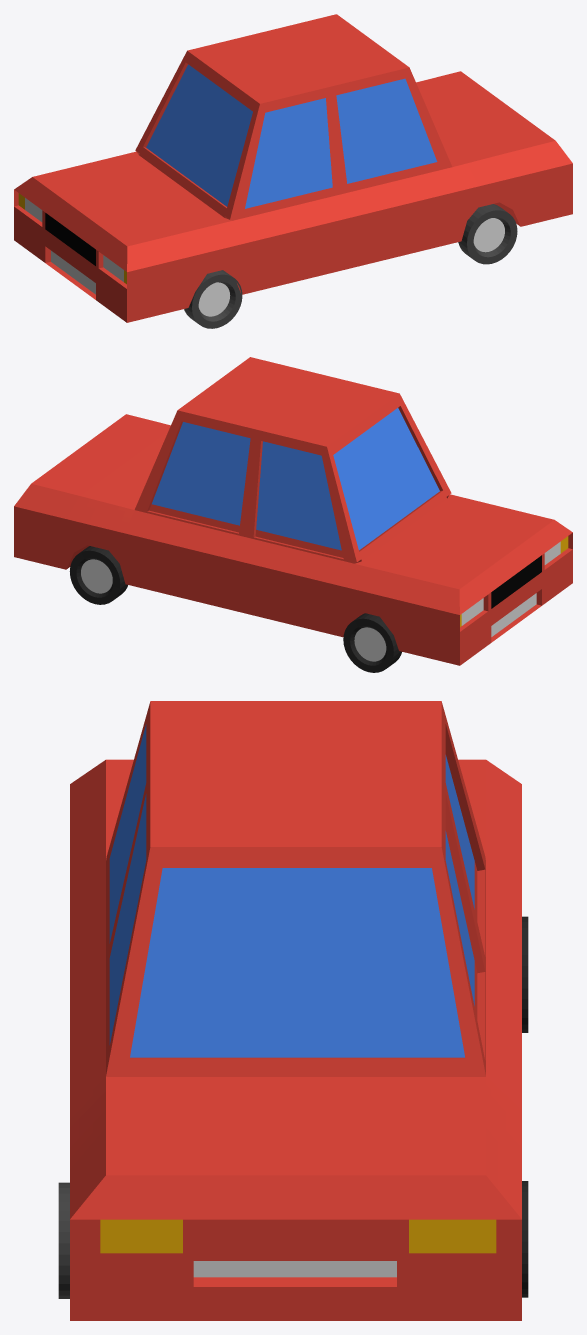
Rendered from car.gltf.
The picture shows the model from 3 angles, top to bottom: view 1: azimuth 30°, elevation 25°; view 2: azimuth 150°, elevation 25°; view 3: azimuth 270°, elevation 25°; orthographic projection. The views are drawn at different scales.
Parts seen in each view (by area): view 1: chassis, wheel-BL, wheel-FL; view 2: chassis, wheel-FR, wheel-BR; view 3: chassis, wheel-BL, wheel-BR, wheel-FR.
Boxes of the visible parts, x1,y1,x2,y2 form: chassis: (14, 14, 572, 322); wheel-BL: (458, 204, 517, 264); wheel-FL: (184, 270, 242, 328); chassis: (14, 357, 572, 665); wheel-FR: (343, 613, 401, 672); wheel-BR: (69, 546, 127, 604); chassis: (70, 701, 521, 1320); wheel-BL: (58, 1182, 69, 1298); wheel-BR: (522, 1181, 528, 1297); wheel-FR: (522, 916, 528, 1032).
Bounding box in the file's own units: 4.56 × 1.9 × 2.08.
